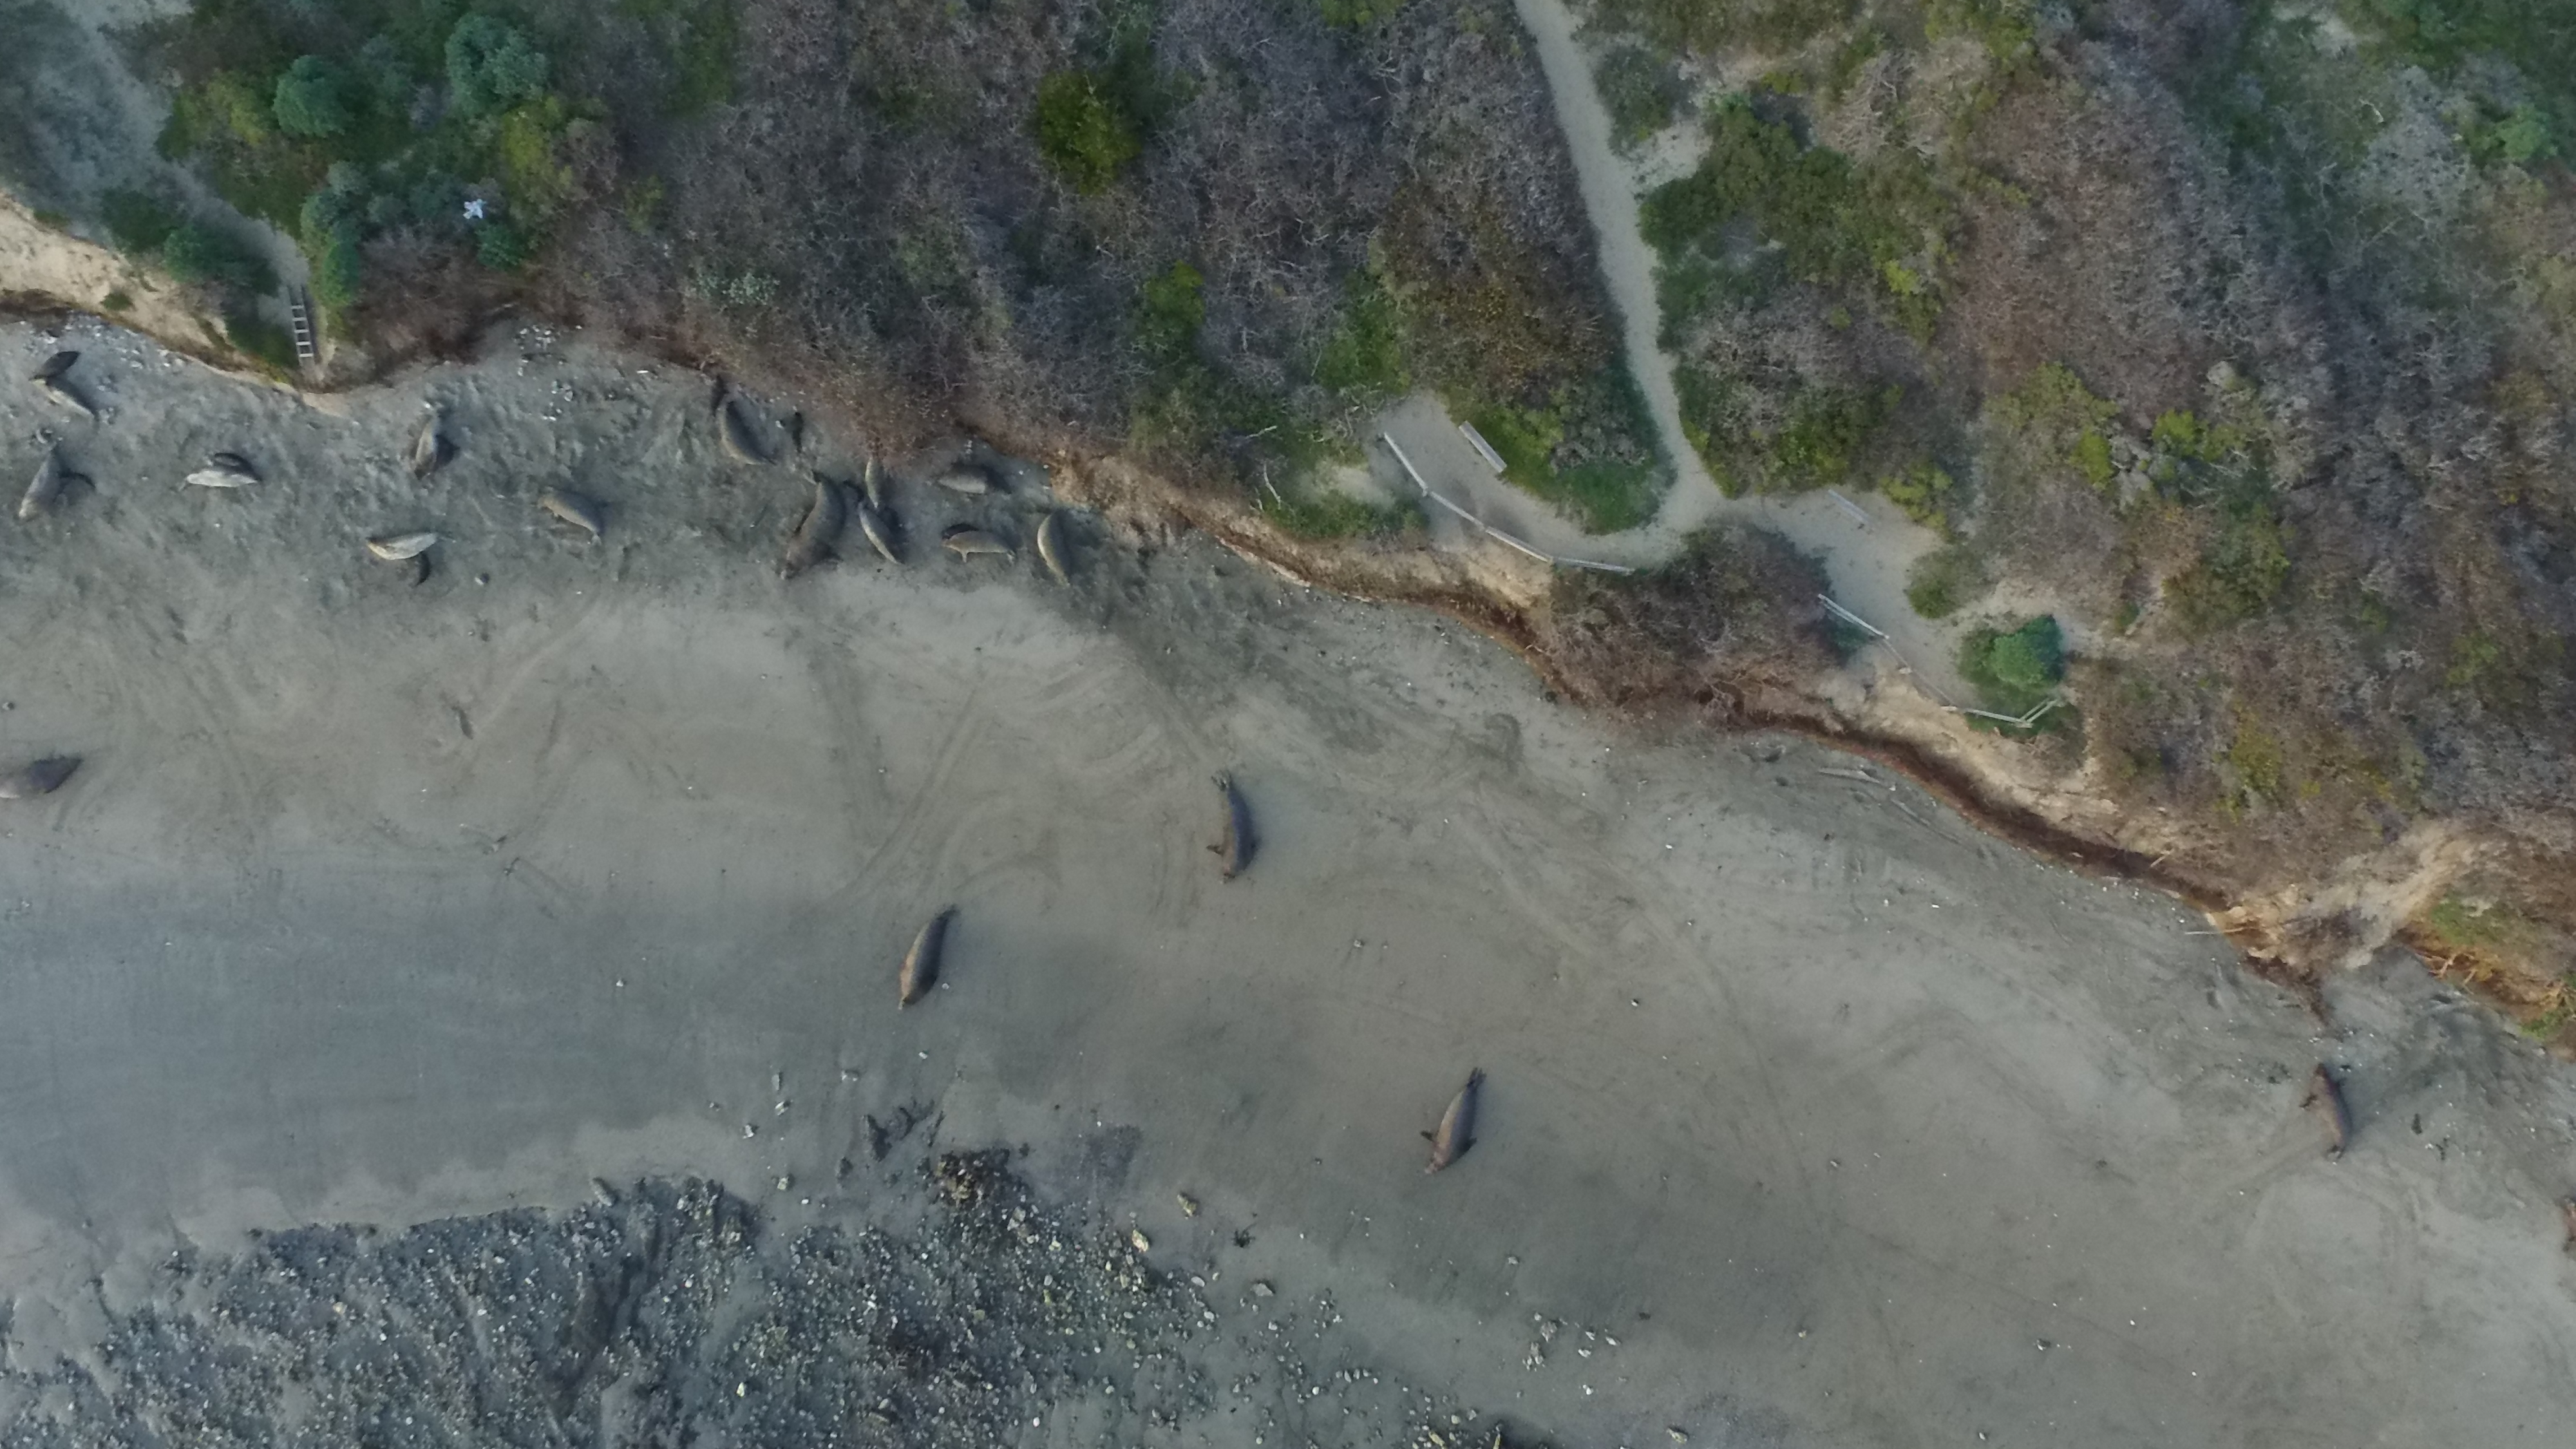adult male: (1417, 1065, 1486, 1178), (780, 469, 847, 580), (893, 904, 957, 1014), (1205, 770, 1258, 888), (2298, 1062, 2357, 1168), (0, 759, 83, 798)
male juvenile / female juvenile / adult female: (536, 485, 610, 547), (19, 439, 69, 524), (720, 400, 780, 467), (855, 499, 911, 566), (28, 373, 104, 423), (1037, 510, 1076, 587), (941, 525, 1017, 564), (414, 409, 449, 490), (364, 531, 460, 561), (932, 464, 1014, 495), (863, 451, 888, 515), (186, 467, 264, 487)
pup: (25, 352, 80, 384), (708, 372, 732, 419), (209, 453, 255, 476), (433, 433, 462, 471), (874, 502, 902, 538), (55, 469, 96, 492), (409, 548, 432, 587), (787, 412, 805, 460), (939, 520, 980, 540), (842, 478, 865, 506)
